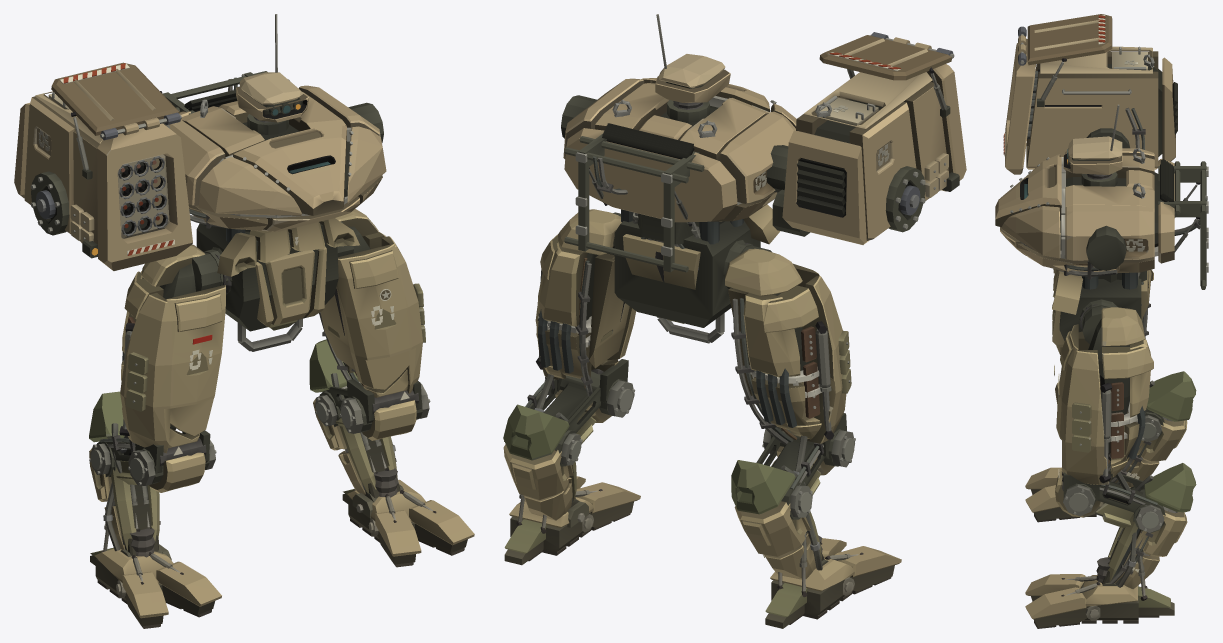
Rendered from rampart-rocket.glb.
The picture shows the model from 3 angles, left to right: view 1: azimuth 30°, elevation 25°; view 2: azimuth 150°, elevation 25°; view 3: azimuth 270°, elevation 25°; orthographic projection. The views are drawn at different scales.
Visible parts, largest first — view 1: Part_Pod_R, Part_Torso, Part_Thigh_R, Part_Thigh_L, Part_Pelvis, Part_Foot_R, Part_Foot_L, Part_Cannon_R, Part_Cannon_L, Part_Shin_R, Part_Shin_L; view 2: Part_Torso, Part_Pod_R, Part_Thigh_R, Part_Thigh_L, Part_Pelvis, Part_Cannon_R, Part_Foot_R, Part_Cannon_L, Part_Foot_L, Part_Shin_L, Part_Shin_R; view 3: Part_Torso, Part_Pod_R, Part_Thigh_L, Part_Foot_L, Part_Cannon_L, Part_Cannon_R, Part_Pelvis, Part_Shin_L, Part_Foot_R.
Part boxes in pixels (<box>): Part_Pod_R: <box>14,62,192,270</box>; Part_Torso: <box>162,14,386,242</box>; Part_Thigh_R: <box>119,244,231,473</box>; Part_Thigh_L: <box>319,209,425,423</box>; Part_Pelvis: <box>196,218,359,351</box>; Part_Foot_R: <box>90,482,221,628</box>; Part_Foot_L: <box>342,440,474,567</box>; Part_Cannon_R: <box>89,391,160,555</box>; Part_Cannon_L: <box>309,339,400,498</box>; Part_Shin_R: <box>100,434,216,492</box>; Part_Shin_L: <box>322,383,430,440</box>; Part_Torso: <box>561,14,796,272</box>; Part_Pod_R: <box>772,32,966,244</box>; Part_Thigh_R: <box>725,243,851,480</box>; Part_Thigh_L: <box>533,209,635,412</box>; Part_Pelvis: <box>614,204,780,343</box>; Part_Cannon_R: <box>731,460,824,579</box>; Part_Foot_R: <box>765,513,901,628</box>; Part_Cannon_L: <box>503,404,582,520</box>; Part_Foot_L: <box>504,476,640,565</box>; Part_Shin_L: <box>525,369,635,450</box>; Part_Shin_R: <box>756,428,855,494</box>; Part_Torso: <box>995,104,1208,289</box>; Part_Pod_R: <box>1003,14,1177,174</box>; Part_Thigh_L: <box>1054,304,1153,501</box>; Part_Foot_L: <box>1025,531,1174,628</box>; Part_Cannon_L: <box>1102,463,1196,589</box>; Part_Cannon_R: <box>1109,371,1196,487</box>; Part_Pelvis: <box>1052,268,1148,347</box>; Part_Shin_L: <box>1055,470,1157,528</box>; Part_Foot_R: <box>1025,459,1130,522</box>.
Size of the model in its own units: 4.12 by 5.4 by 2.25.
